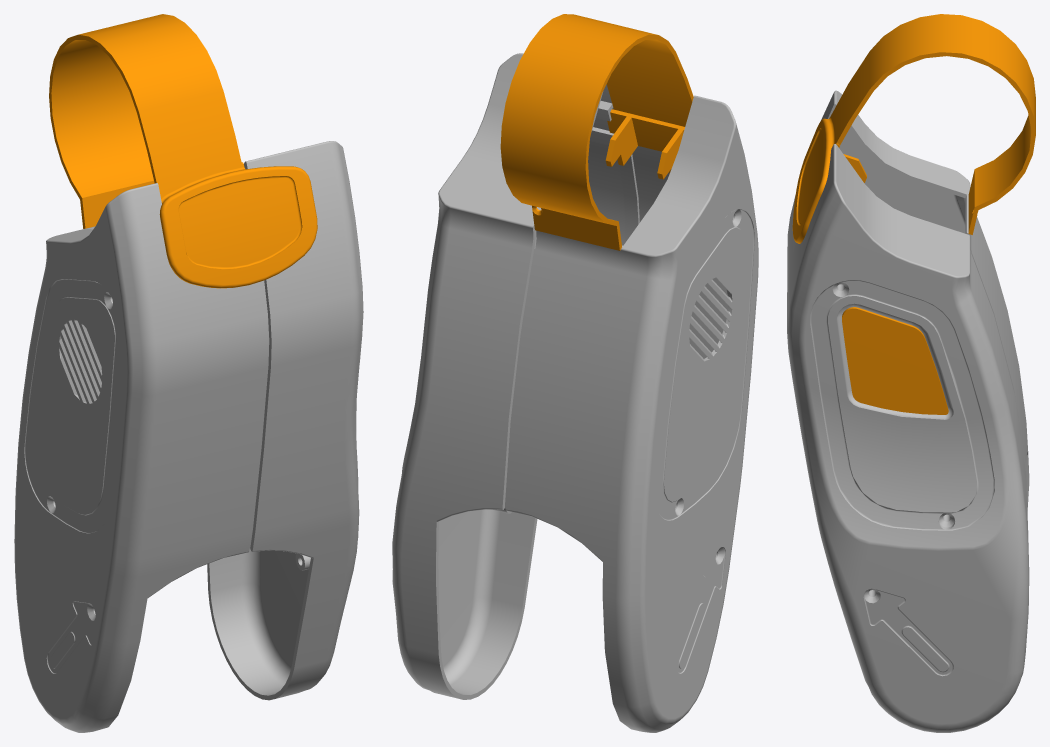
Rendered from LLowerLeg.obj.
3 views of the same model, side by side, from view 1: azimuth 30°, elevation 25°; view 2: azimuth 150°, elevation 25°; view 3: azimuth 270°, elevation 25° (orthographic). The views are drawn at different scales.
Bounding box in the file's own units: 0.1529 × 0.3961 × 0.1404.
